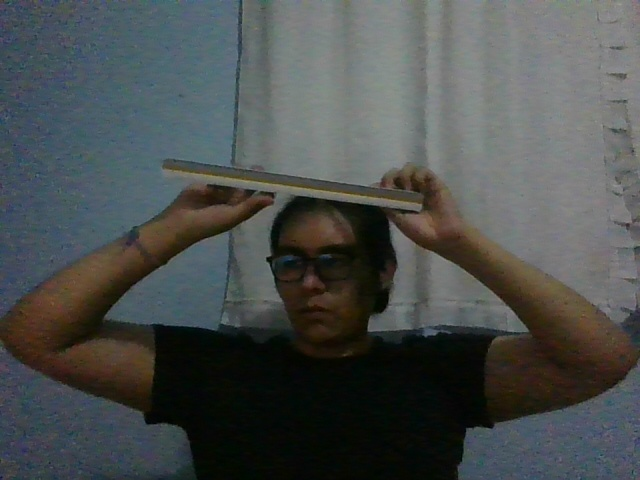regla: (162, 157, 425, 213)
